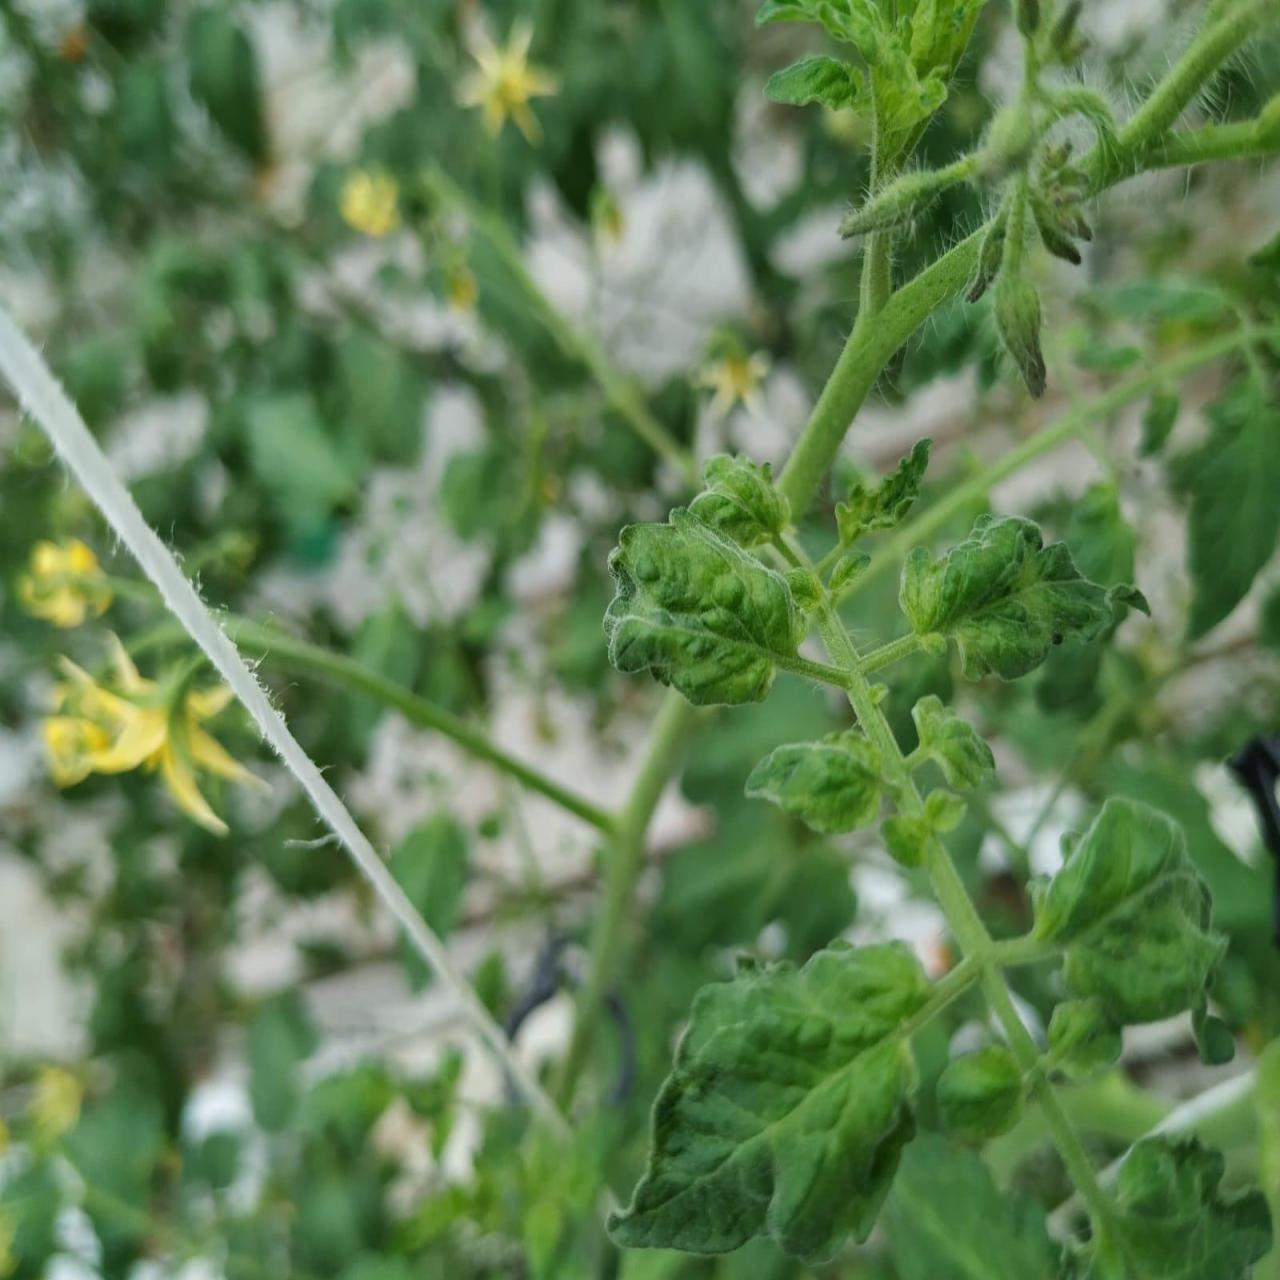T_L_H: (611, 945, 933, 1262), (604, 508, 804, 704)
T_S_R: (1, 1, 1280, 1278), (781, 231, 986, 520)
